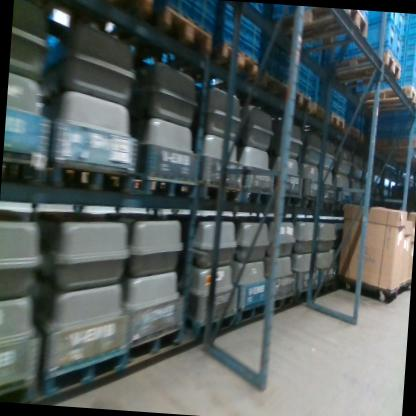pallet: (47, 340, 131, 402), (151, 4, 215, 57), (41, 161, 133, 195), (301, 6, 370, 49), (336, 46, 402, 89), (126, 323, 183, 372), (184, 305, 243, 348), (211, 40, 260, 79), (4, 145, 50, 184), (362, 83, 416, 115), (141, 173, 197, 198), (0, 373, 42, 403), (239, 294, 271, 329), (100, 0, 155, 18), (201, 180, 242, 202), (264, 290, 295, 319), (258, 73, 287, 98), (273, 188, 303, 211), (377, 135, 416, 152), (243, 186, 274, 204), (294, 91, 317, 115), (300, 193, 322, 216), (318, 198, 340, 217), (329, 112, 346, 129), (346, 127, 361, 139)
small_load_carrier: (218, 12, 261, 45), (369, 25, 405, 63), (366, 11, 408, 41), (172, 0, 221, 18), (283, 62, 315, 86)
